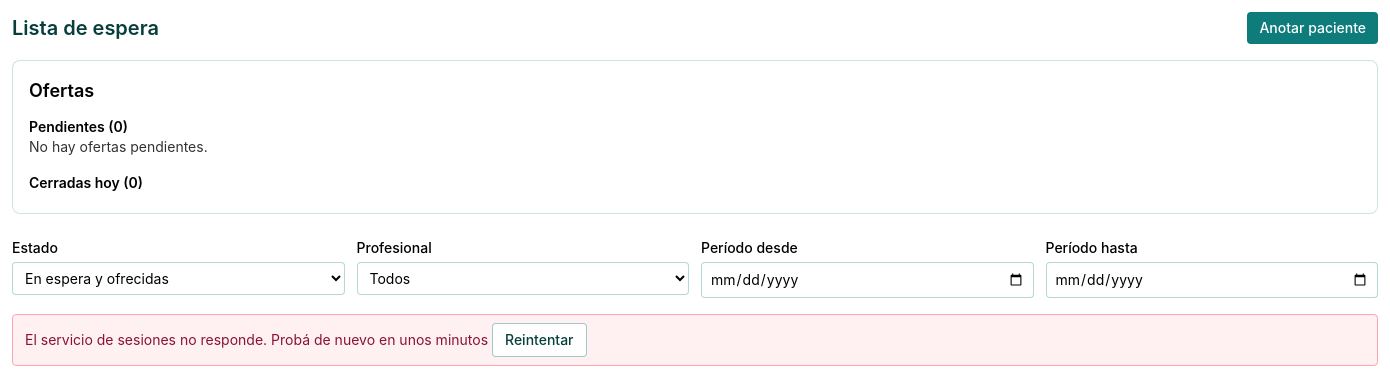
Test case: WaitingListPage › vacío explica cómo anotar y el error permite reintentar
Expected: the message shows "no responde", top-left (25, 331), bottom-right (488, 348)
Click the button "Reintentar".
click(539, 340)  # box top-left (492, 323), bottom-right (586, 357)
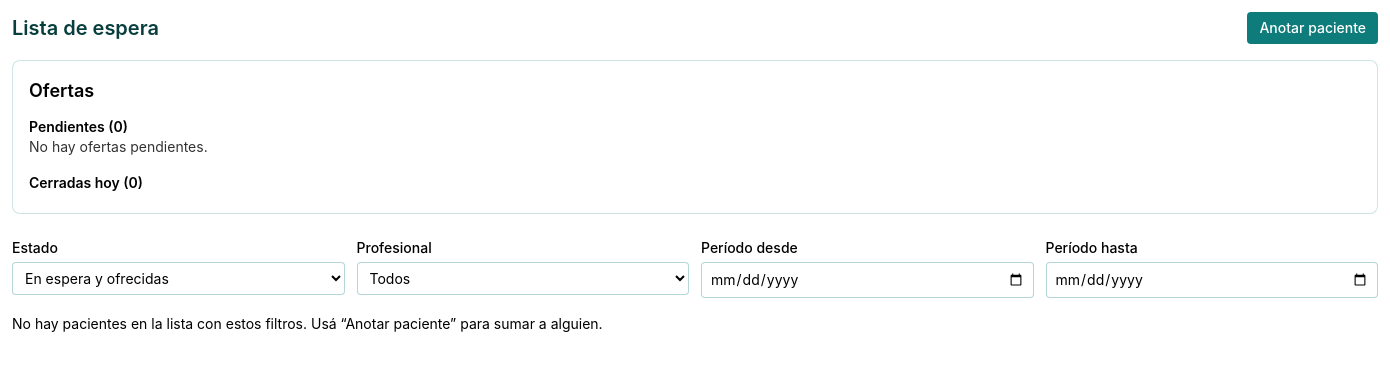
Now the text "Usá “Anotar paciente”" is shown, box top-left (307, 315), bottom-right (603, 332)
